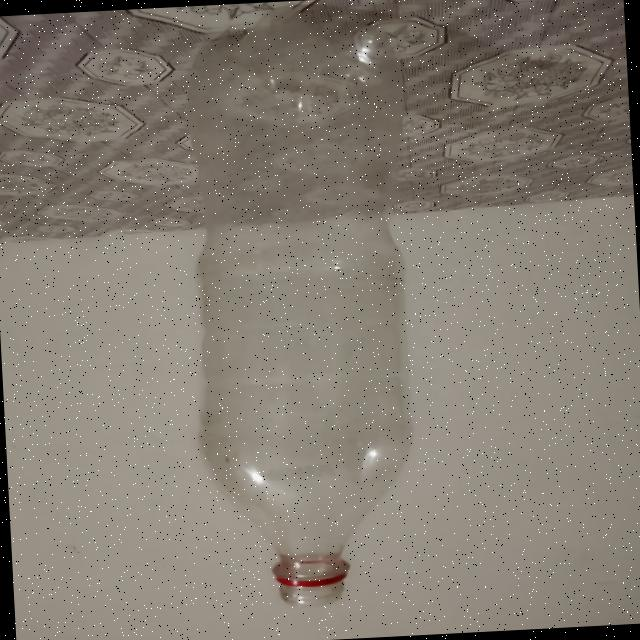bottle: (178, 1, 436, 614)
